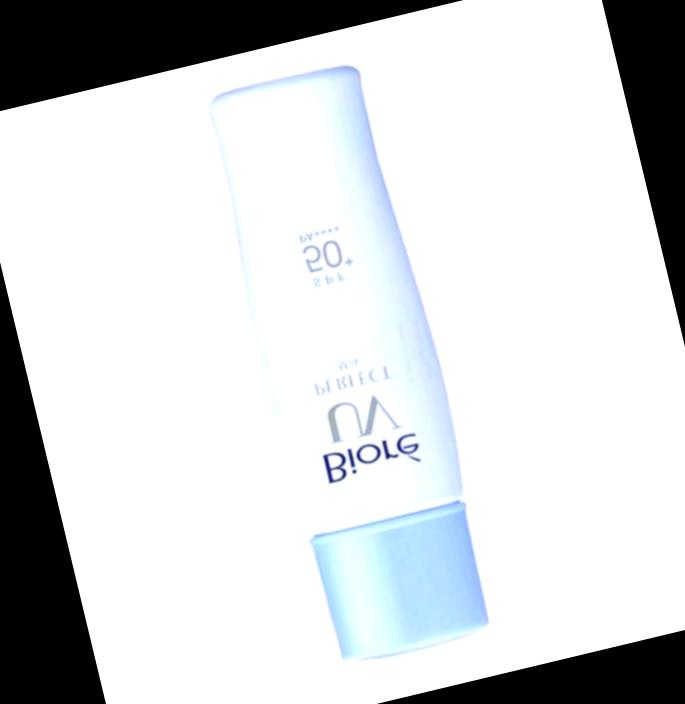cosmetic: (200, 63, 499, 661)
